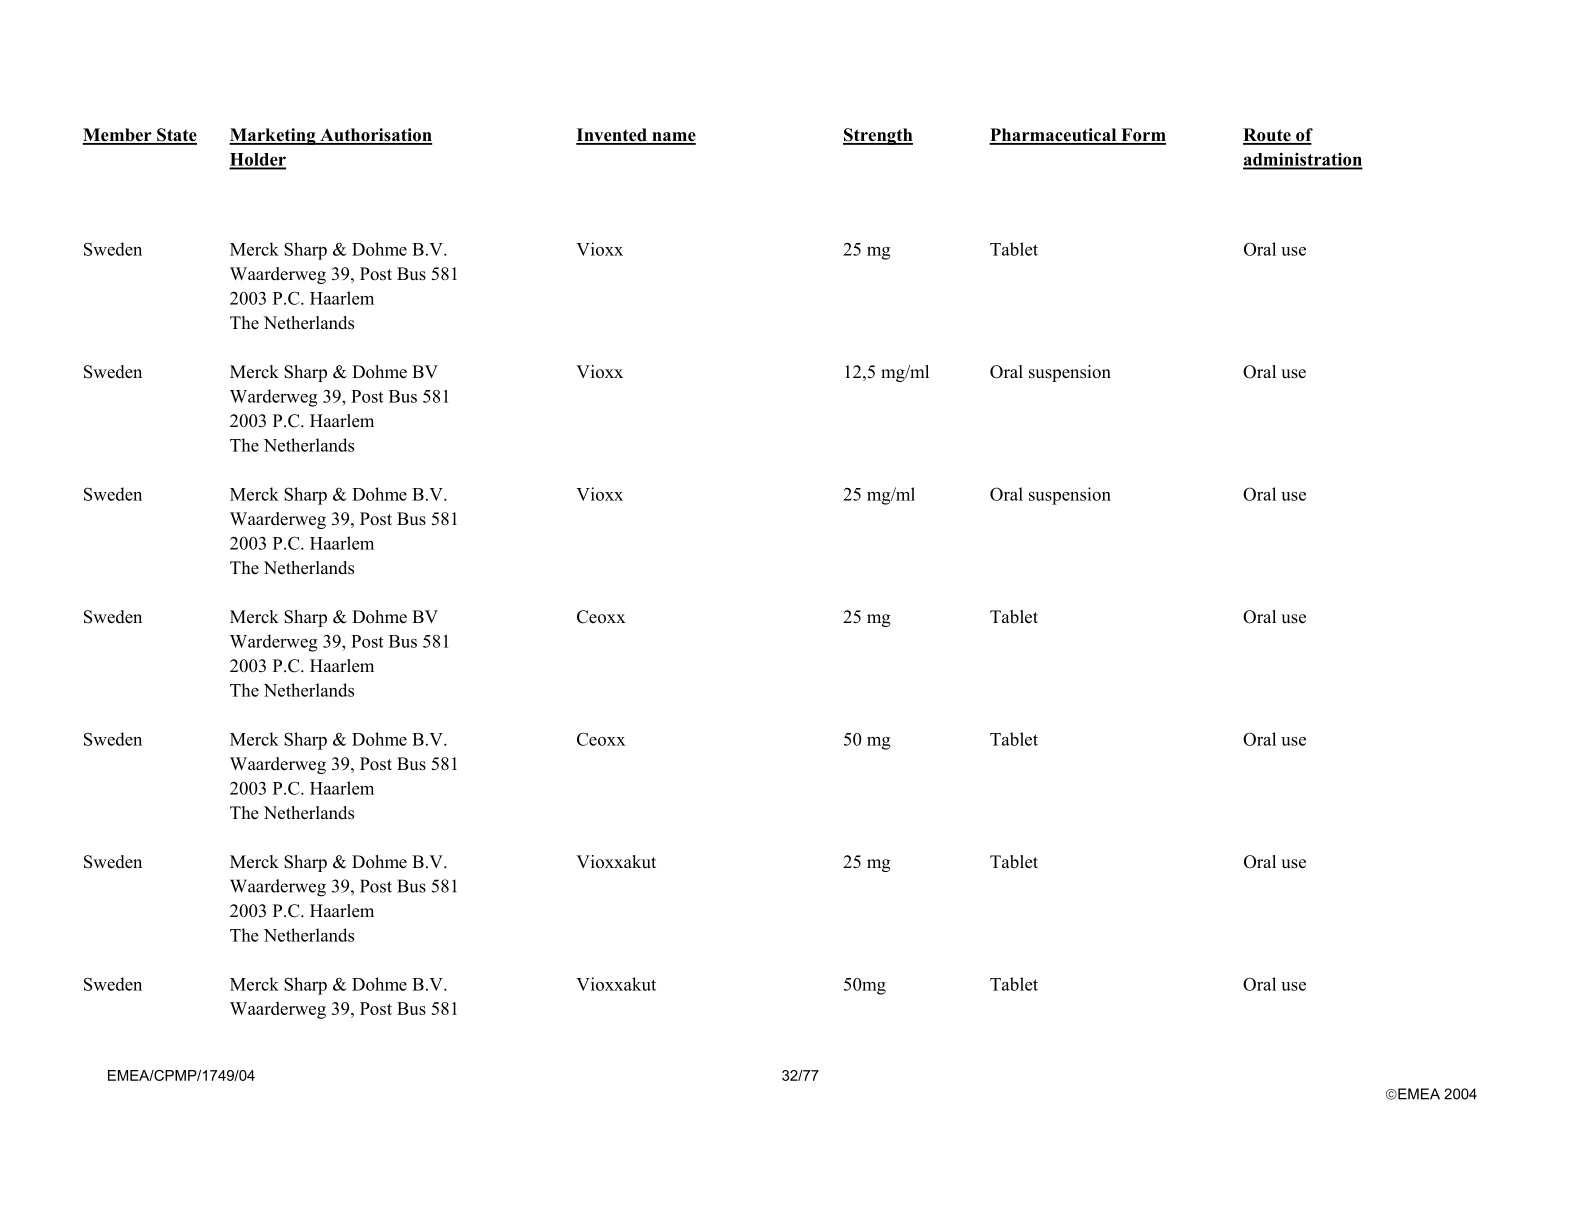nolines: (76, 122, 1365, 1023)
